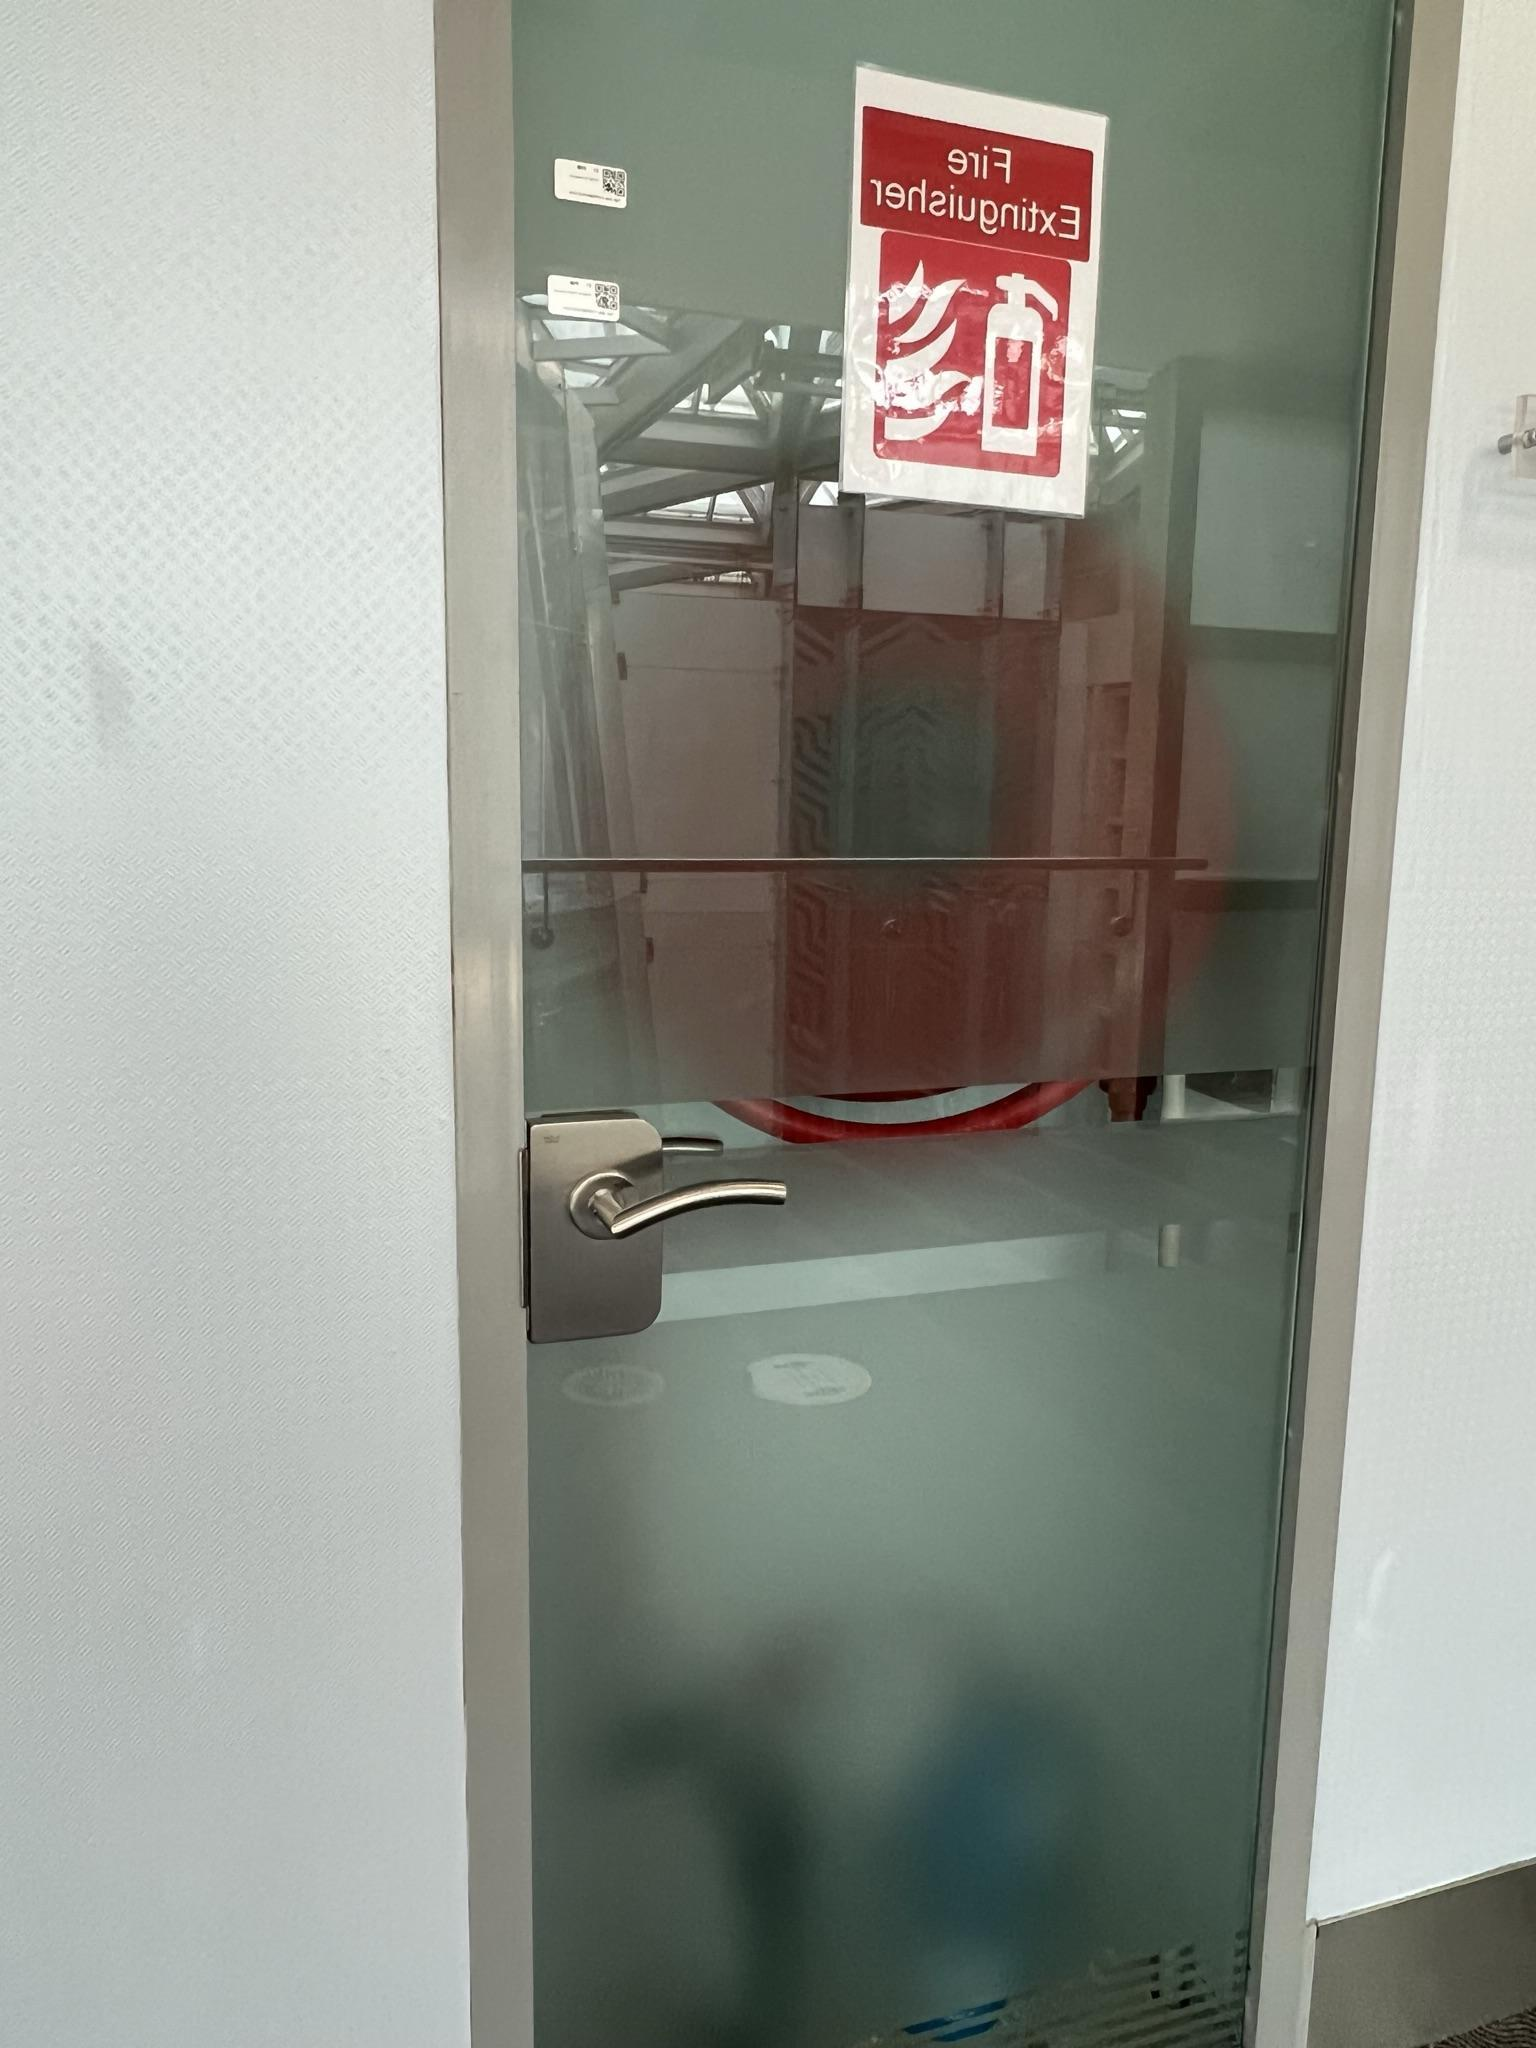door: (452, 0, 1349, 2048)
handle: (520, 1105, 802, 1345)
